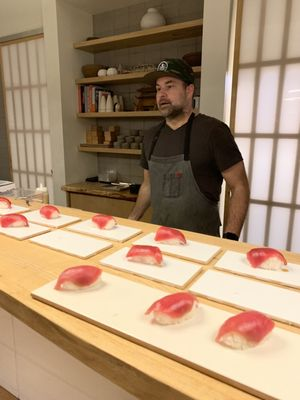curry: (3, 201, 299, 400)
steak: (0, 214, 29, 228)
